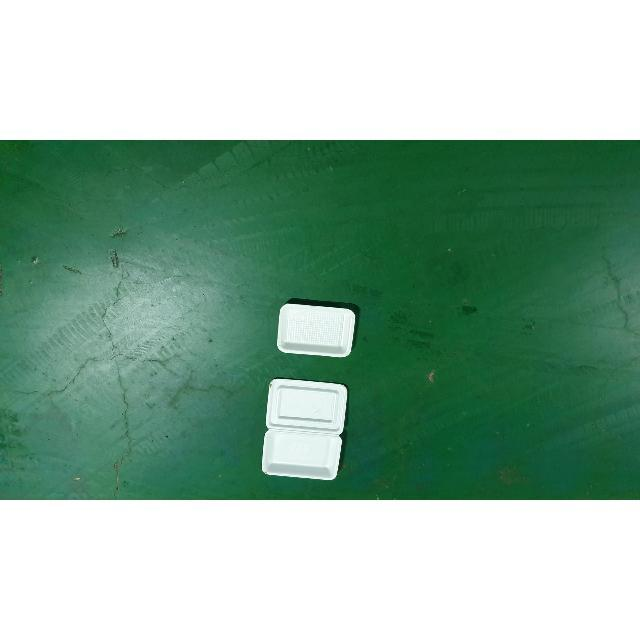Plastico descartable: (262, 381, 348, 483), (276, 301, 360, 360)
